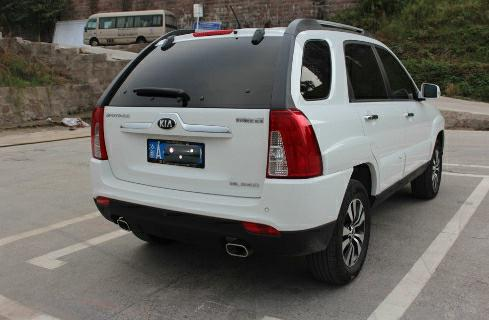起亚-佳乐: (84, 17, 452, 290)
